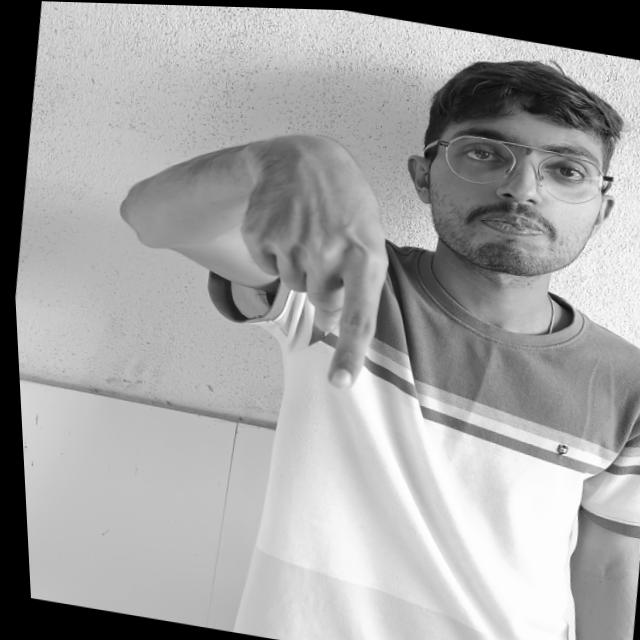Now: (122, 87, 462, 412)
